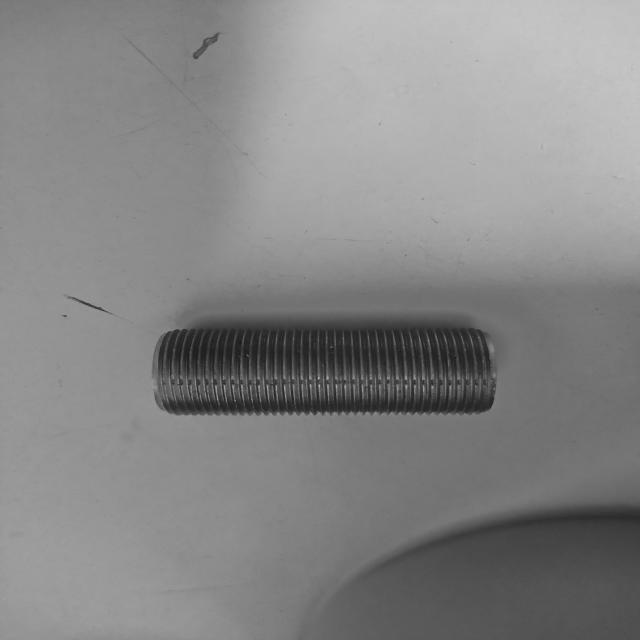Broken: (154, 325, 496, 417)
